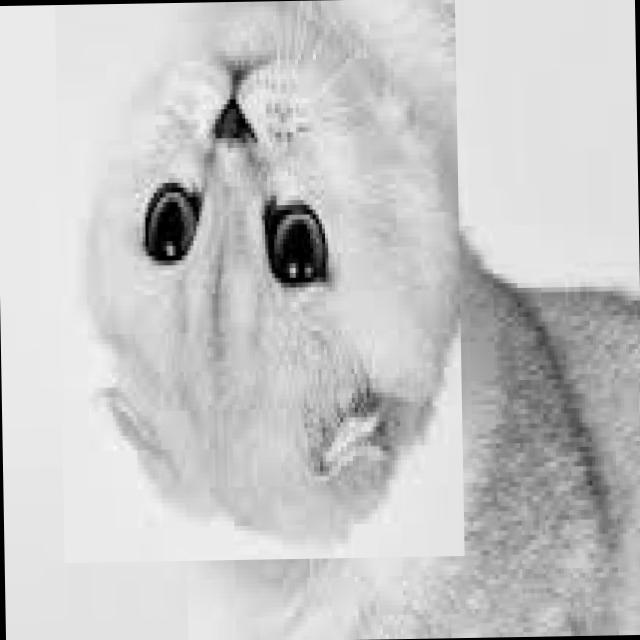scootish: (54, 0, 464, 562)
